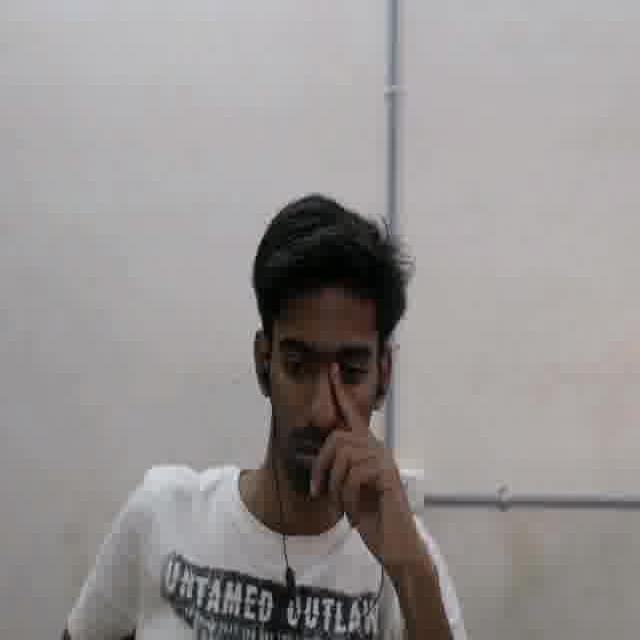Confusion: (261, 285, 381, 495)
